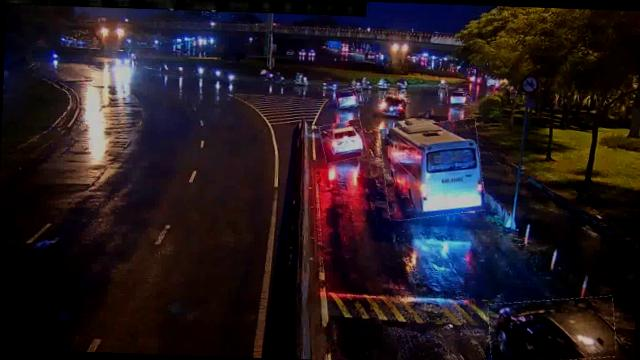Bus: (380, 118, 486, 222)
Car: (488, 295, 618, 360), (321, 120, 366, 162), (334, 87, 364, 108), (381, 95, 406, 116), (447, 88, 469, 105)
